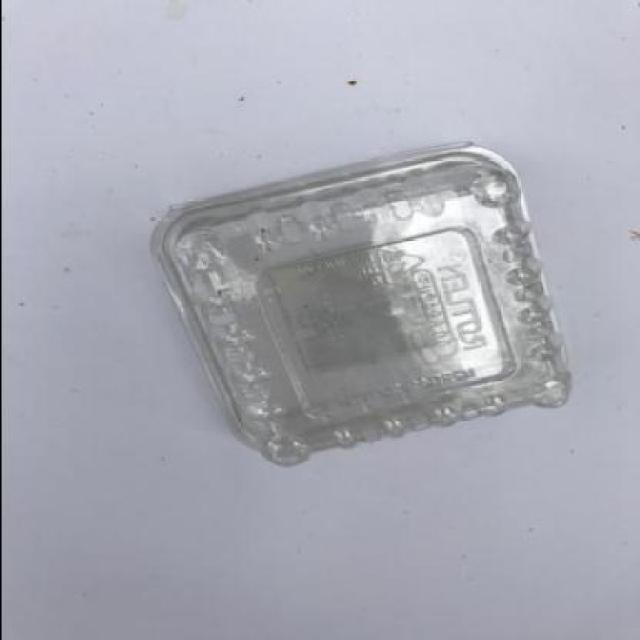PLASTIC: (148, 137, 568, 466)
